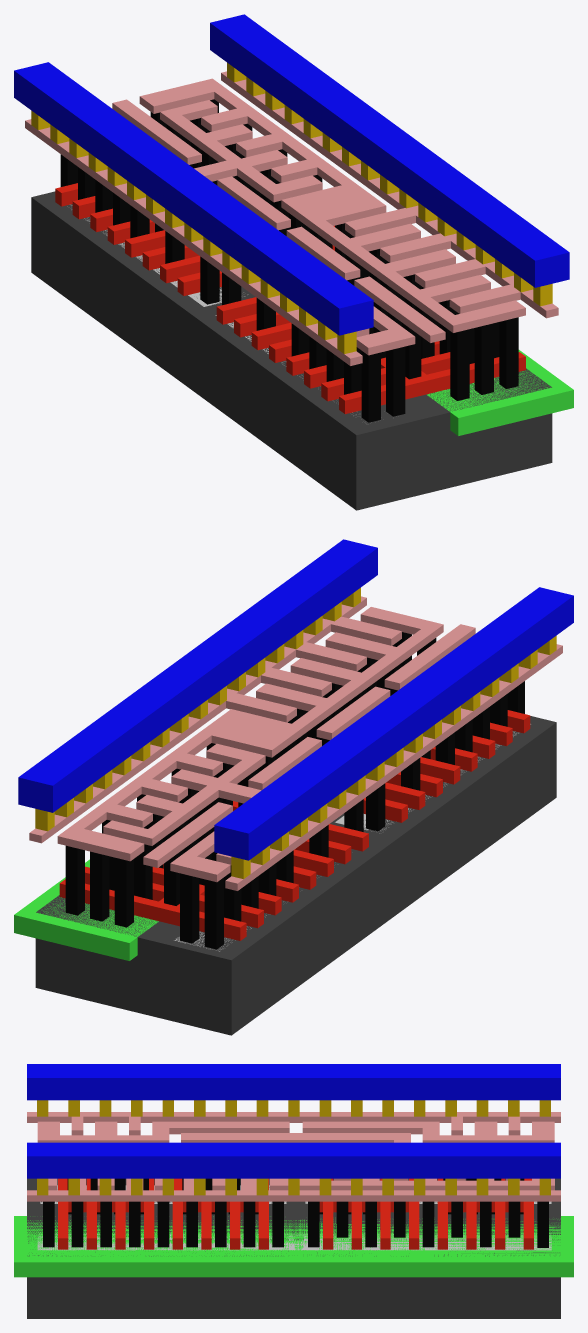
File: sky130_fd_sc_hd__a22oi_4.obj
The picture shows the model from 3 angles, top to bottom: view 1: azimuth 30°, elevation 25°; view 2: azimuth 150°, elevation 25°; view 3: azimuth 270°, elevation 25°; orthographic projection. The views are drawn at different scales.
Parts seen in each view (by area): view 1: subs, metal1, li, licon, poly, mcon, nwell; view 2: subs, metal1, li, licon, poly, mcon, nwell; view 3: metal1, subs, li, nwell, licon, poly, mcon, tap.
Part boxes in pixels (<box>): subs: <box>31,191,552,510</box>; metal1: <box>14,14,569,335</box>; li: <box>25,71,558,365</box>; licon: <box>60,99,518,422</box>; poly: <box>55,183,525,414</box>; mcon: <box>31,62,552,353</box>; nwell: <box>427,350,573,435</box>; subs: <box>35,716,556,1035</box>; metal1: <box>18,539,573,860</box>; li: <box>29,596,562,890</box>; licon: <box>65,632,524,949</box>; poly: <box>59,710,530,940</box>; mcon: <box>35,587,556,878</box>; nwell: <box>14,859,158,960</box>; metal1: <box>27,1064,560,1178</box>; subs: <box>27,1178,560,1318</box>; li: <box>27,1112,560,1201</box>; nwell: <box>14,1216,573,1277</box>; licon: <box>43,1178,548,1247</box>; poly: <box>58,1178,533,1249</box>; mcon: <box>37,1100,550,1195</box>; tap: <box>37,1230,551,1250</box>.
Size of the model in its own units: 3.2 by 2.74 by 8.2.
